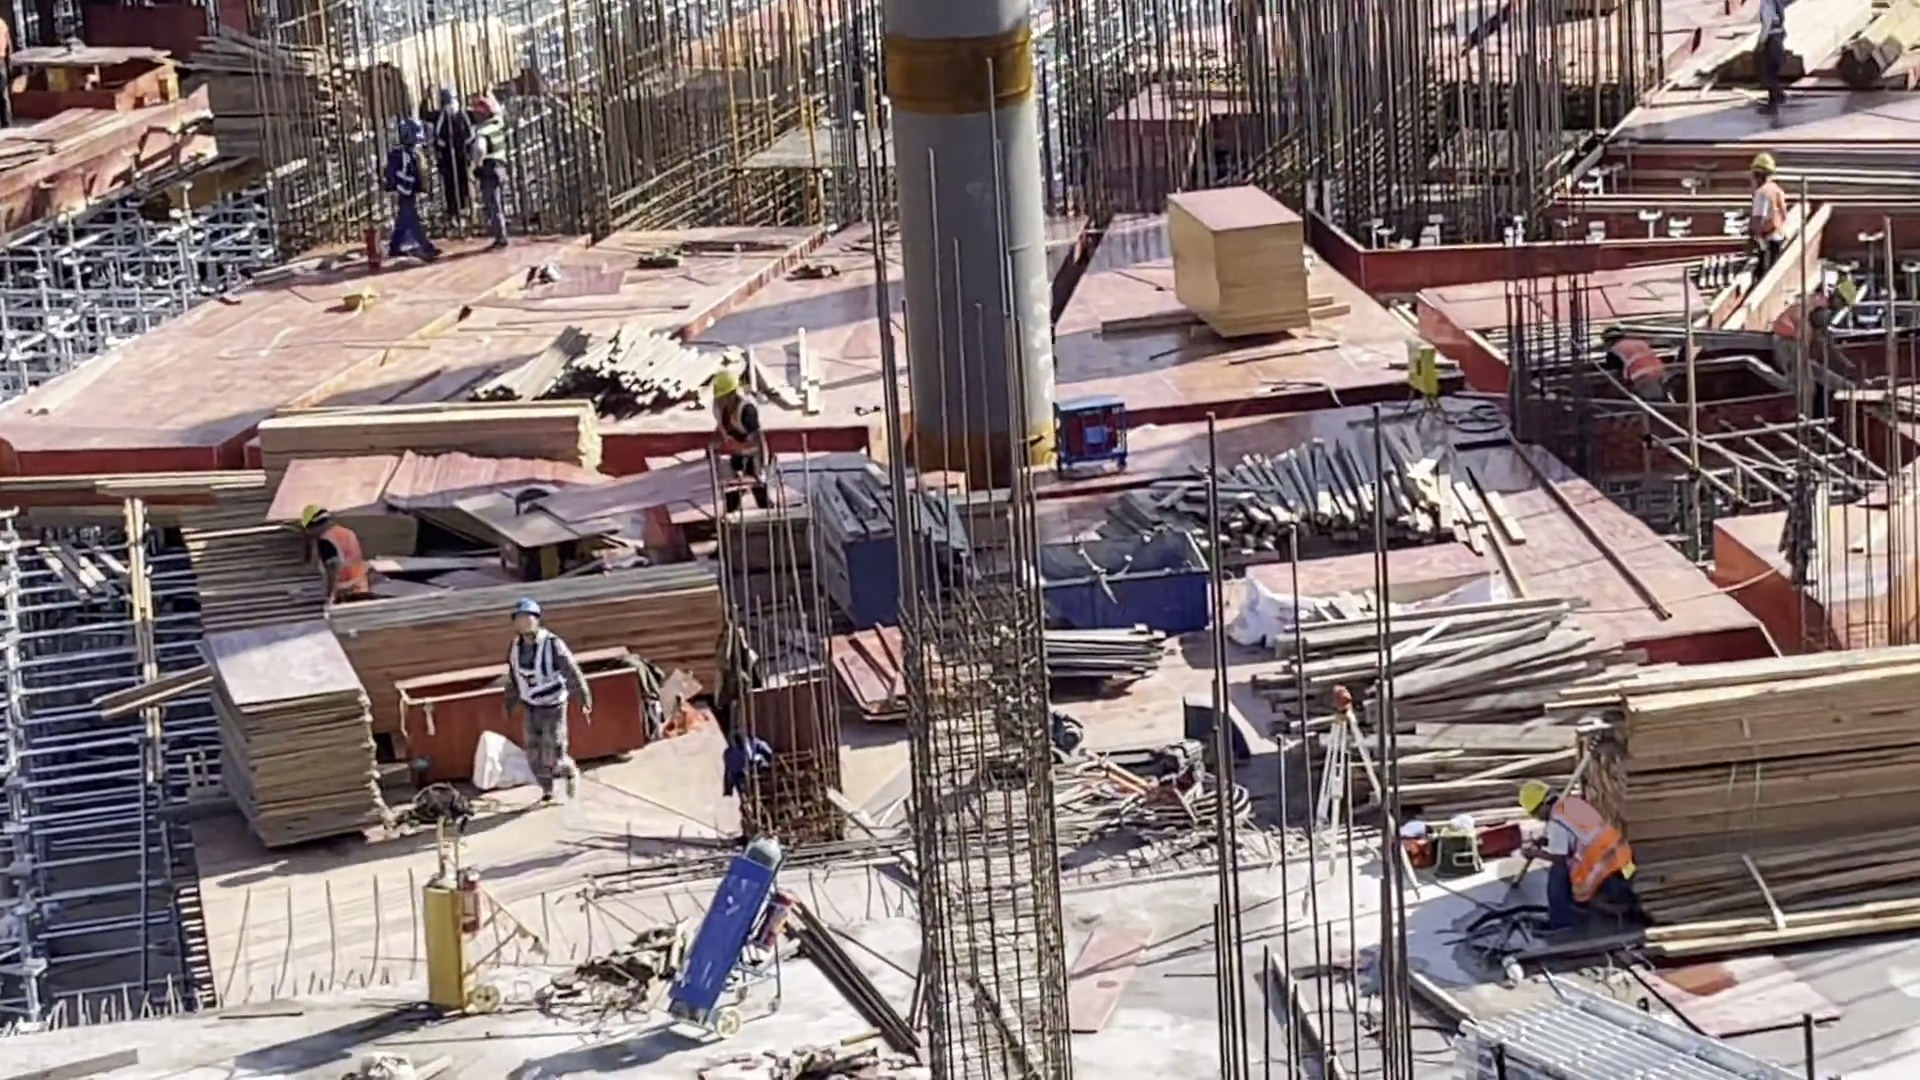board: (342, 574, 722, 691), (198, 622, 389, 844), (1162, 182, 1315, 344), (269, 451, 601, 518)
cutter: (7, 40, 185, 122), (455, 482, 621, 570)
ebox: (1401, 337, 1440, 417)
helmet: (1518, 777, 1550, 816), (1745, 150, 1778, 179), (708, 368, 737, 397), (296, 504, 325, 531), (469, 96, 498, 123), (505, 599, 546, 616), (396, 119, 421, 143), (435, 88, 457, 111)
hopper: (1028, 537, 1211, 636)
person: (493, 600, 593, 803), (1517, 777, 1646, 931), (1770, 280, 1862, 421), (380, 121, 444, 261), (711, 373, 770, 513), (297, 502, 370, 605), (466, 95, 514, 246), (420, 84, 469, 223), (1747, 153, 1788, 259), (1601, 325, 1664, 386), (1760, 1, 1788, 117)
rebar: (783, 899, 916, 1054)
scaffold: (1453, 972, 1814, 1080)
vest: (1552, 797, 1635, 901), (507, 633, 569, 704), (710, 395, 760, 458), (317, 528, 362, 592), (1750, 184, 1788, 242), (1611, 339, 1661, 383), (431, 107, 465, 163), (390, 145, 425, 197), (475, 122, 507, 173), (1761, 1, 1788, 47)
wood: (1607, 645, 1920, 946), (1283, 591, 1631, 801), (1117, 436, 1525, 558), (471, 326, 708, 411), (197, 26, 342, 154)
